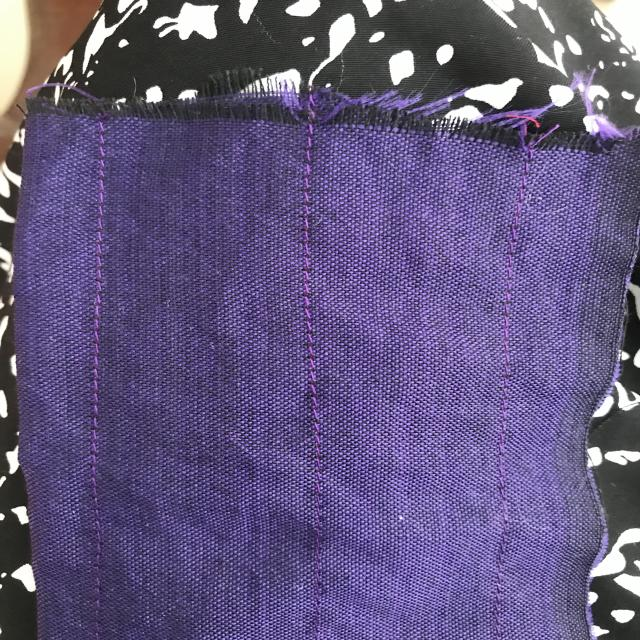good: (75, 402, 122, 570), (290, 202, 326, 408), (87, 183, 112, 380)
